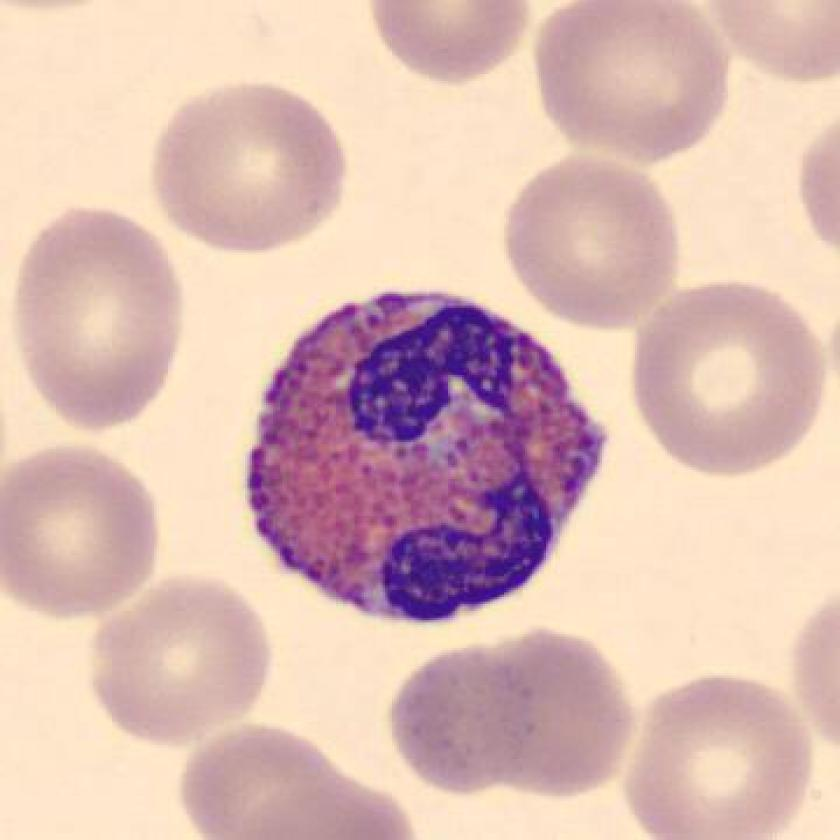eosinophil: (232, 267, 617, 642)
